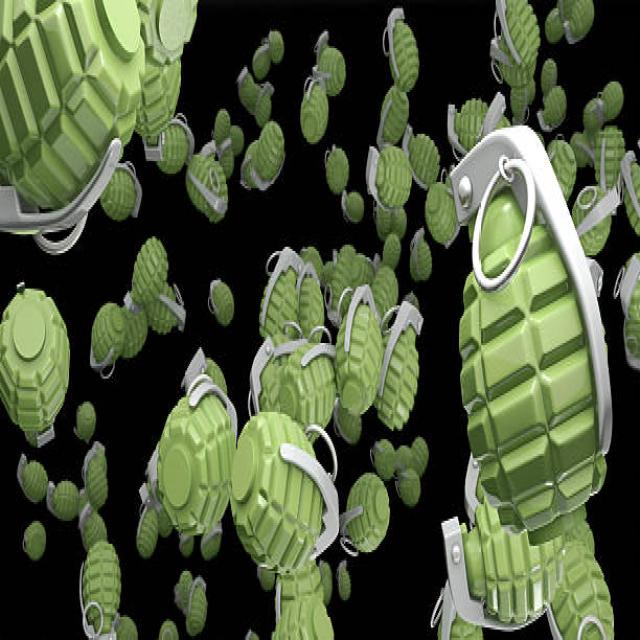grenade: (447, 125, 616, 544), (230, 412, 344, 579), (159, 372, 240, 537), (79, 540, 125, 640), (367, 145, 417, 218), (381, 10, 424, 91)
